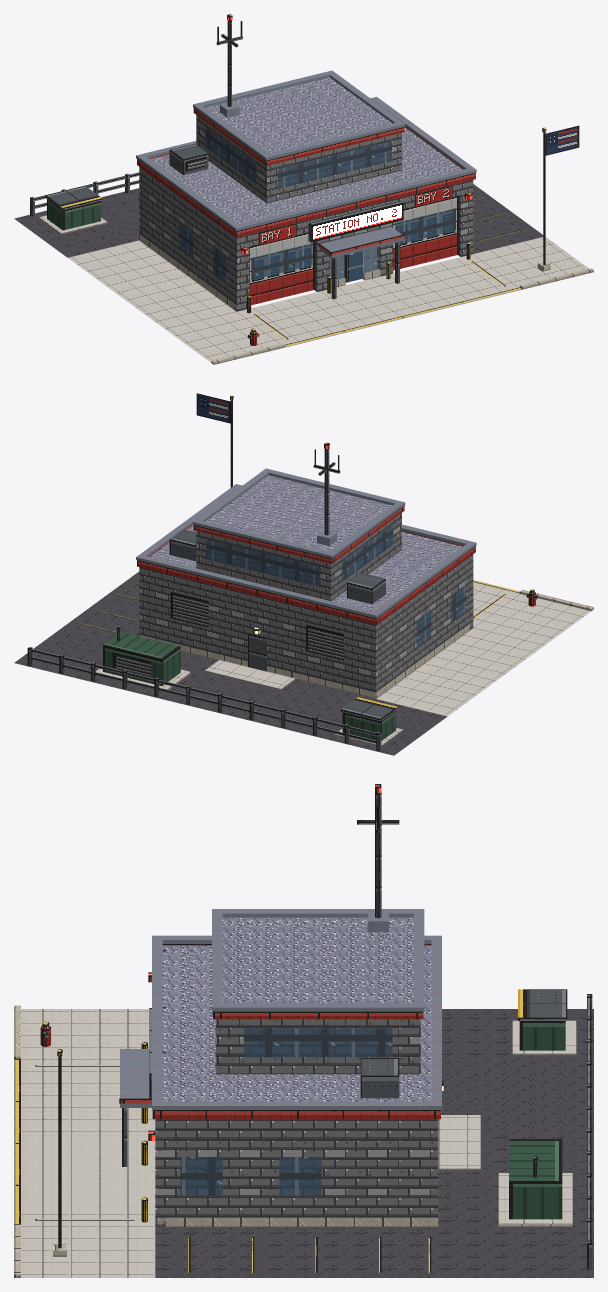
File: fire-station-1988.glb
3 views of the same model, one above another, from view 1: azimuth 30°, elevation 25°; view 2: azimuth 150°, elevation 25°; view 3: azimuth 270°, elevation 25° (orthographic). The views are drawn at different scales.
Parts seen in each view (by area): view 1: structure, lot, parking_lot, rear_service, curb_props; view 2: structure, parking_lot, lot, rear_service, curb_props; view 3: structure, parking_lot, lot, rear_service, curb_props.
Part boxes in pixels (box(x1,y1,x2,y2)): structure: box(136, 14, 476, 311); lot: box(68, 237, 593, 364); parking_lot: box(14, 184, 543, 257); rear_service: box(30, 172, 139, 234); curb_props: box(247, 125, 579, 345); structure: box(136, 442, 476, 698); parking_lot: box(14, 571, 447, 755); lot: box(376, 580, 593, 716); rear_service: box(27, 626, 402, 751); curb_props: box(196, 393, 537, 606); structure: box(119, 784, 443, 1226); parking_lot: box(155, 1009, 593, 1277); lot: box(14, 1005, 155, 1277); rear_service: box(438, 989, 592, 1268); curb_props: box(40, 1021, 147, 1256).
Size of what is drawn, in the model's own units: 28.03 by 15.68 by 25.45.
10 materials, 10 textured.
